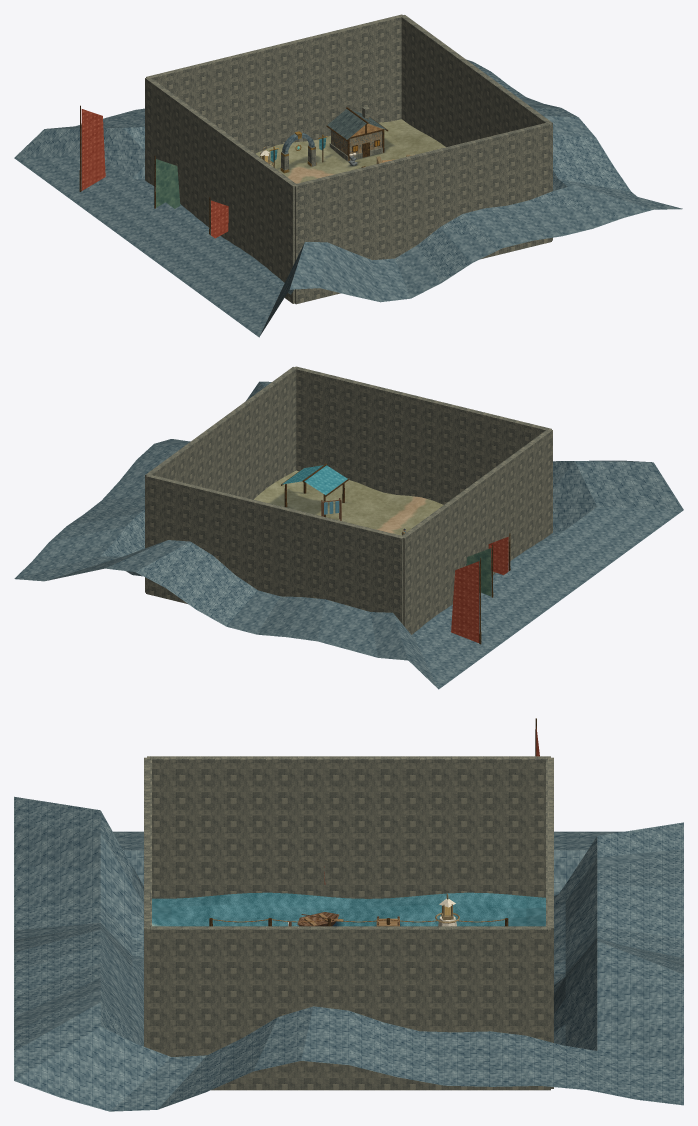
Rendered from Saltwake-fa1b2442097d.glb.
The picture shows the model from 3 angles, top to bottom: view 1: azimuth 30°, elevation 25°; view 2: azimuth 150°, elevation 25°; view 3: azimuth 270°, elevation 25°; orthographic projection. The views are drawn at different scales.
Parts seen in each view (by area): view 1: C_Solids, Rim, Terrain, Set; view 2: C_Solids, Rim, Terrain, Set; view 3: C_Solids, Rim, Terrain, Set.
Boxes of the visible parts, x1=… form: C_Solids: x1=145, y1=14, x2=552, y2=304; Rim: x1=14, y1=59, x2=682, y2=337; Terrain: x1=255, y1=119, x2=445, y2=183; Set: x1=79, y1=105, x2=414, y2=234; C_Solids: x1=145, y1=366, x2=552, y2=634; Rim: x1=14, y1=381, x2=683, y2=689; Terrain: x1=254, y1=470, x2=443, y2=535; Set: x1=281, y1=463, x2=510, y2=644; C_Solids: x1=144, y1=756, x2=553, y2=1090; Rim: x1=14, y1=726, x2=683, y2=1111; Terrain: x1=152, y1=892, x2=545, y2=926; Set: x1=209, y1=718, x2=536, y2=926.
Size of the model in its own units: 68 by 18 by 68.
Materials: 17 (17 with a texture image).
